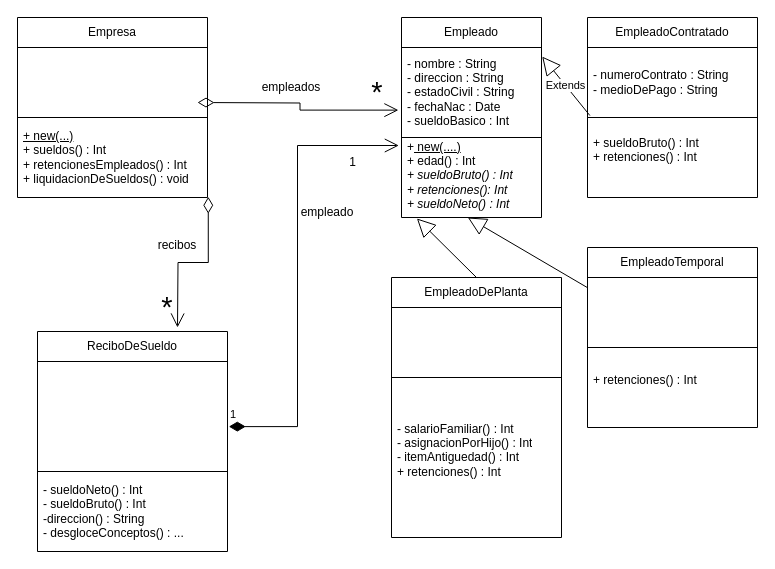
This 775x569 diagram has some shape labels left out. Here are the shapes that lost their labels. From the top down, the centre of each, then its label:
point (112, 82): - nombre : String - cuit : String
point (672, 312): - fechaFinDesignacion : Date - cantHorasExtras : Int
point (476, 342): - cantDeHijos : Int - antiguedad : Int - tieneConyugue : Boolean
point (132, 416): - fechaEmision : Date
